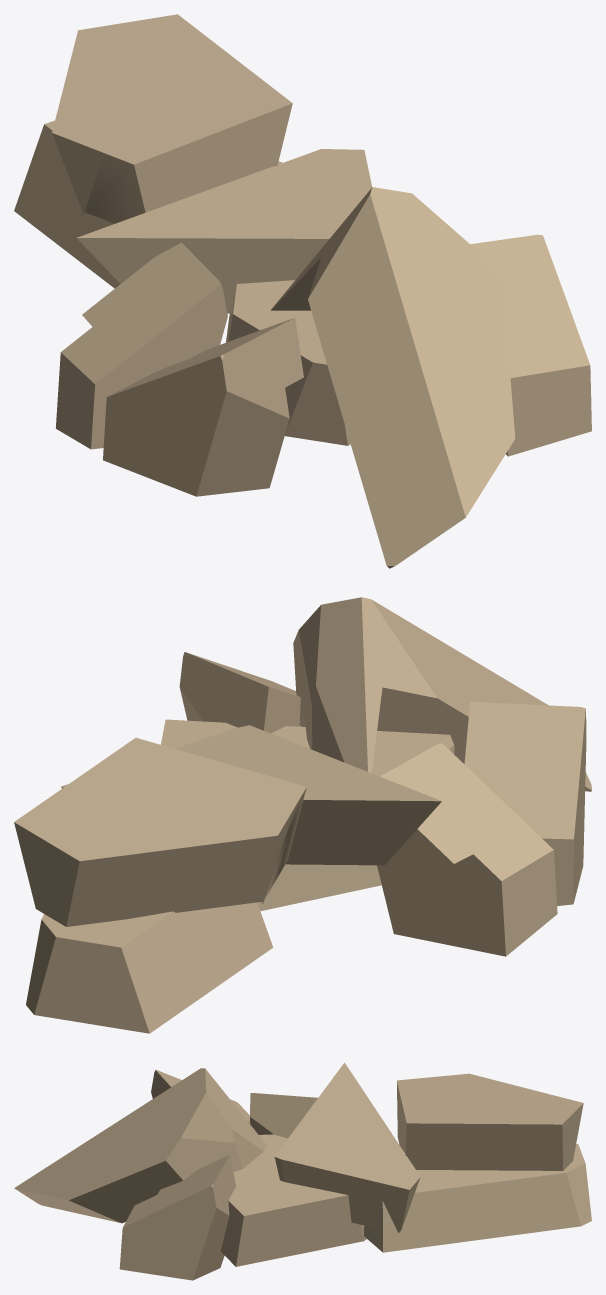
The model's file is SM_stone_debris_09.fbx.
3 renders of one model, top to bottom at view 1: azimuth 30°, elevation 25°; view 2: azimuth 150°, elevation 25°; view 3: azimuth 270°, elevation 25°, orthographic. The views are drawn at different scales.
Visible parts, largest first — view 1: stone_debris_09; view 2: stone_debris_09; view 3: stone_debris_09.
Boxes of the visible parts, left/top/right/bottom form: stone_debris_09: left=14, top=14, right=591, bottom=568; stone_debris_09: left=14, top=597, right=591, bottom=1033; stone_debris_09: left=14, top=1062, right=591, bottom=1280.
Bounding box in the file's own units: 247 × 148 × 452.
